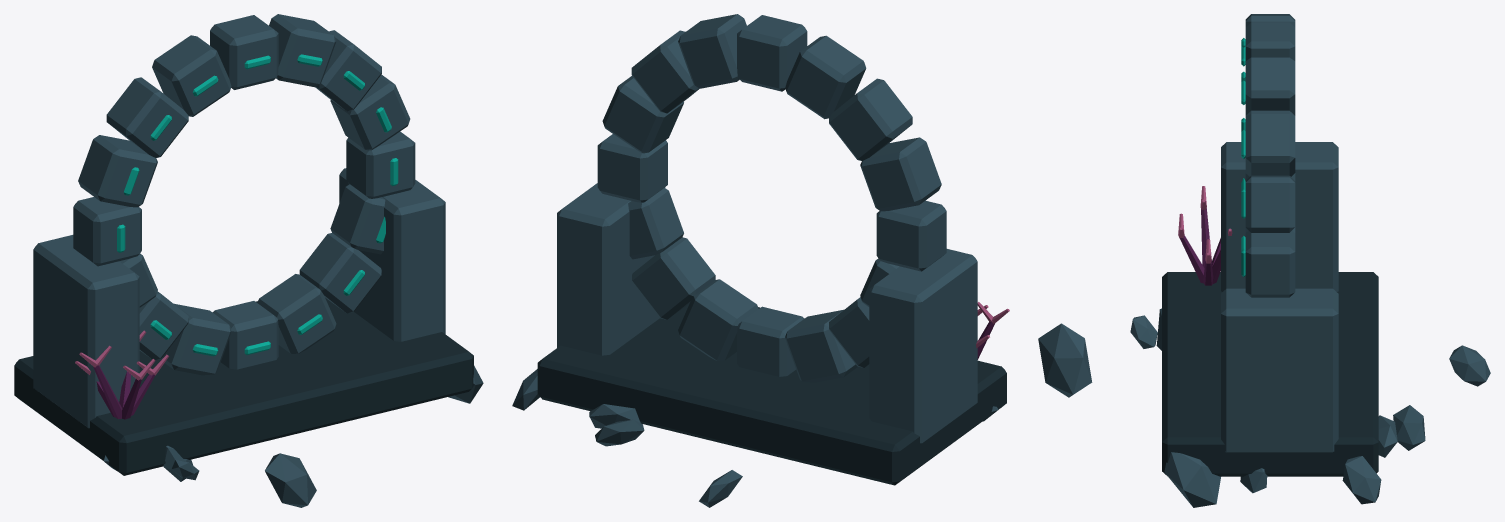
File: 04_sunken_rotor.obj
3 views of the same model, side by side, from view 1: azimuth 30°, elevation 25°; view 2: azimuth 150°, elevation 25°; view 3: azimuth 270°, elevation 25° (orthographic). The views are drawn at different scales.
Visible parts, largest first — view 1: RotorPlinth, RotorSupport, RotorSupport.001, RingSegment.005, RingSegment.007, RingSegment.006, RingSegment.008, RingSegment.004, RingSegment.014, RingSegment.013, RingSegment, RingSegment.003 (+8 smaller); view 2: RotorPlinth, RotorSupport, RotorSupport.001, RingSegment.005, RingSegment.007, RingSegment.008, RingSegment.006, RingSegment.004, RingSegment.014, RingSegment.013, RingSegment, RingSegment.003 (+11 smaller); view 3: RotorPlinth, RotorSupport.001, RotorSupport, RingSegment.002, RingSegment, RingSegment.001, BrokenStone.040, RingSegment.003, BrokenStone.041, RingSegment.004, BrokenStone.038, BrokenStone.045 (+3 smaller).
Part boxes in pixels (left/top/right/bottom): RotorPlinth: left=14, top=297, right=473, bottom=475; RotorSupport: left=33, top=235, right=139, bottom=428; RotorSupport.001: left=339, top=168, right=445, bottom=341; RingSegment.005: left=152, top=35, right=231, bottom=116; RingSegment.007: left=78, top=135, right=157, bottom=207; RingSegment.006: left=106, top=77, right=188, bottom=157; RingSegment.008: left=73, top=197, right=141, bottom=266; RingSegment.004: left=210, top=15, right=278, bottom=89; RingSegment.014: left=299, top=233, right=381, bottom=313; RingSegment.013: left=257, top=274, right=336, bottom=353; RingSegment: left=346, top=131, right=415, bottom=198; RingSegment.003: left=269, top=14, right=336, bottom=87; RotorPlinth: left=537, top=303, right=1006, bottom=485; RotorSupport: left=869, top=249, right=977, bottom=443; RotorSupport.001: left=557, top=183, right=665, bottom=355; RingSegment.005: left=785, top=35, right=866, bottom=119; RingSegment.007: left=860, top=137, right=941, bottom=211; RingSegment.008: left=876, top=200, right=946, bottom=271; RingSegment.006: left=829, top=78, right=912, bottom=160; RingSegment.004: left=737, top=15, right=807, bottom=91; RingSegment.014: left=632, top=237, right=715, bottom=319; RingSegment.013: left=678, top=279, right=758, bottom=360; RingSegment: left=597, top=134, right=667, bottom=202; RingSegment.003: left=678, top=14, right=746, bottom=88; RotorPlinth: left=1162, top=272, right=1378, bottom=476; RotorSupport.001: left=1221, top=288, right=1338, bottom=452; RotorSupport: left=1221, top=142, right=1338, bottom=291; RingSegment.002: left=1245, top=110, right=1295, bottom=176; RingSegment: left=1245, top=230, right=1295, bottom=297; RingSegment.001: left=1245, top=175, right=1295, bottom=232; BrokenStone.040: left=1038, top=323, right=1092, bottom=397; RingSegment.003: left=1245, top=57, right=1295, bottom=115; BrokenStone.041: left=1164, top=452, right=1220, bottom=507; RingSegment.004: left=1245, top=22, right=1295, bottom=60; BrokenStone.038: left=1342, top=456, right=1381, bottom=504; BrokenStone.045: left=1449, top=345, right=1490, bottom=386.
Size of the model in its own units: 7.32 by 6.91 by 7.31.
Materials: 5 (5 with a texture image).
